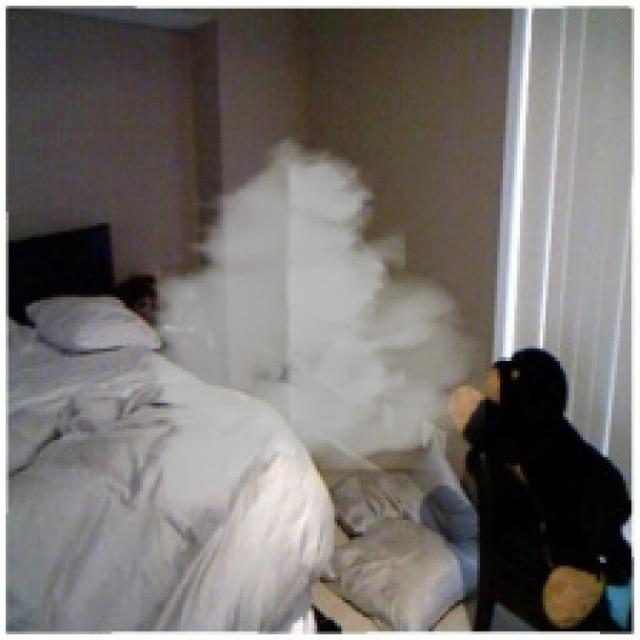smoke: (134, 126, 486, 531)
